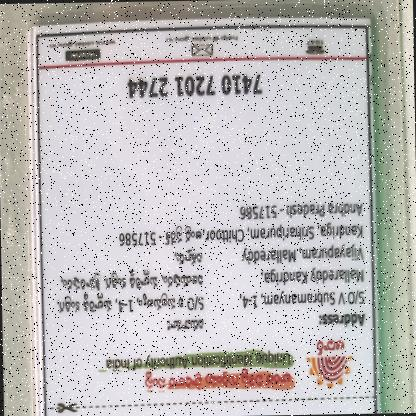aadhaar_card: (25, 15, 383, 415)
